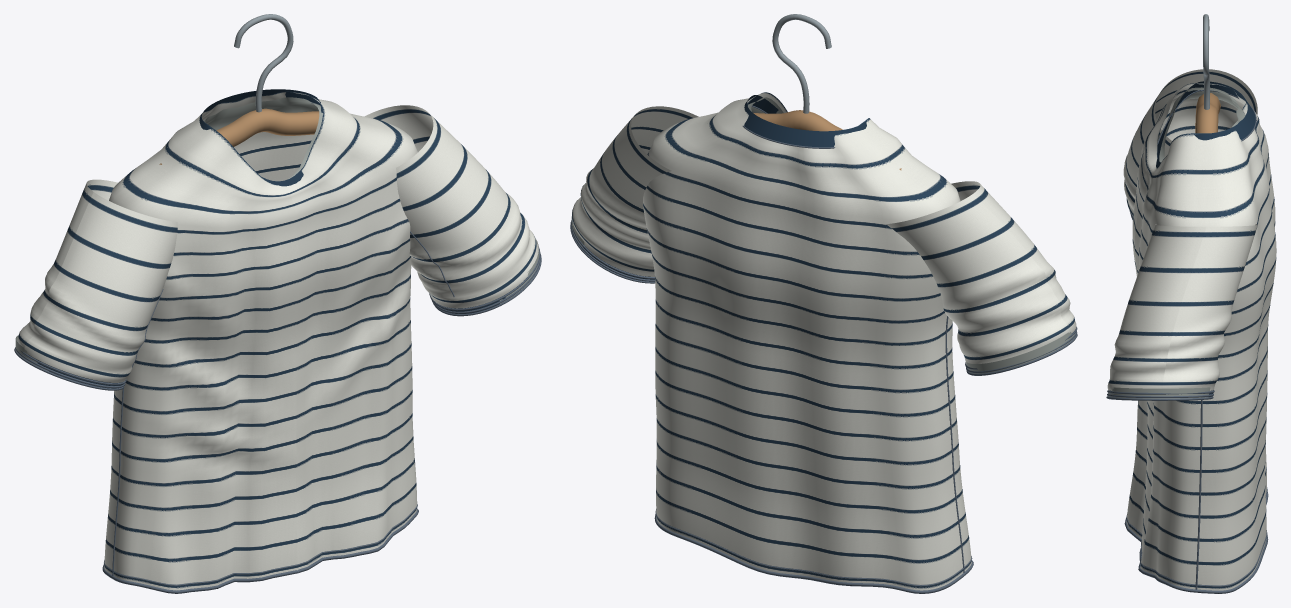
Rendered from tee.glb.
The picture shows the model from 3 angles, left to right: view 1: azimuth 30°, elevation 25°; view 2: azimuth 150°, elevation 25°; view 3: azimuth 270°, elevation 25°; orthographic projection. The views are drawn at different scales.
Visible parts, largest first — view 1: tee woven shell, Topstitched cloth edge, Warm beech, Yoke and facing, Indigo rib knit, Brushed steel; view 2: tee woven shell, Topstitched cloth edge, Indigo rib knit, Yoke and facing, Brushed steel, Warm beech; view 3: tee woven shell, Topstitched cloth edge, Yoke and facing, Indigo rib knit, Warm beech, Brushed steel.
Part boxes in pixels (x1,y1,x2,y2): tee woven shell: (18, 91, 538, 590); Topstitched cloth edge: (14, 102, 541, 593); Warm beech: (159, 108, 319, 164); Yoke and facing: (15, 97, 539, 371); Indigo rib knit: (28, 89, 527, 388); Brushed steel: (234, 14, 293, 112); tee woven shell: (572, 92, 1076, 590); Topstitched cloth edge: (570, 105, 1077, 593); Indigo rib knit: (573, 95, 1075, 333); Yoke and facing: (571, 97, 1075, 373); Brushed steel: (772, 14, 831, 113); Warm beech: (753, 110, 901, 170); tee woven shell: (1107, 69, 1276, 590); Topstitched cloth edge: (1106, 90, 1268, 593); Yoke and facing: (1108, 87, 1244, 398); Indigo rib knit: (1108, 81, 1255, 396); Warm beech: (1195, 93, 1220, 133); Brushed steel: (1203, 14, 1209, 109).
Size of the model in its own units: 2.08 by 2.11 by 0.6296.
Materials: 6 (1 with a texture image).
